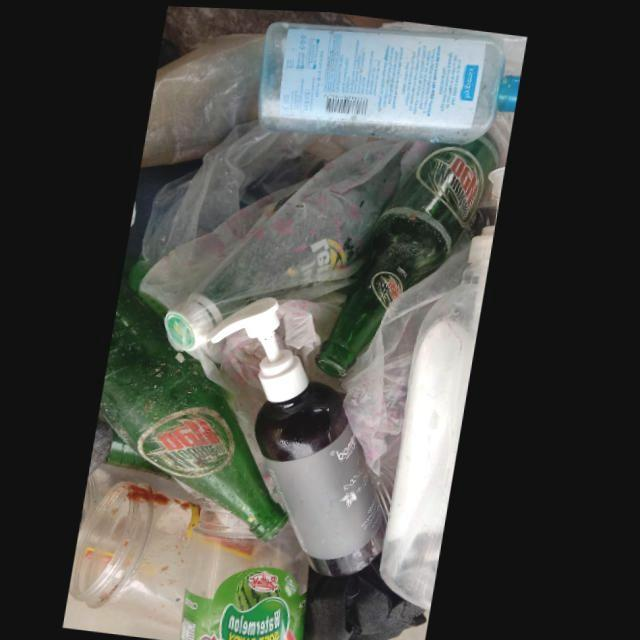glass_bottle: (169, 136, 437, 349), (106, 270, 296, 539), (318, 129, 501, 376)
plastic_bottle: (203, 293, 395, 573), (388, 160, 507, 603), (258, 19, 520, 140)
plastic_container: (77, 478, 207, 624), (189, 497, 318, 640)
